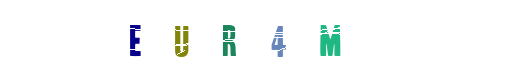4: (231, 0, 311, 80)
E: (94, 0, 174, 80)
M: (251, 0, 331, 80)
R: (212, 0, 292, 80)
U: (141, 0, 221, 80)
